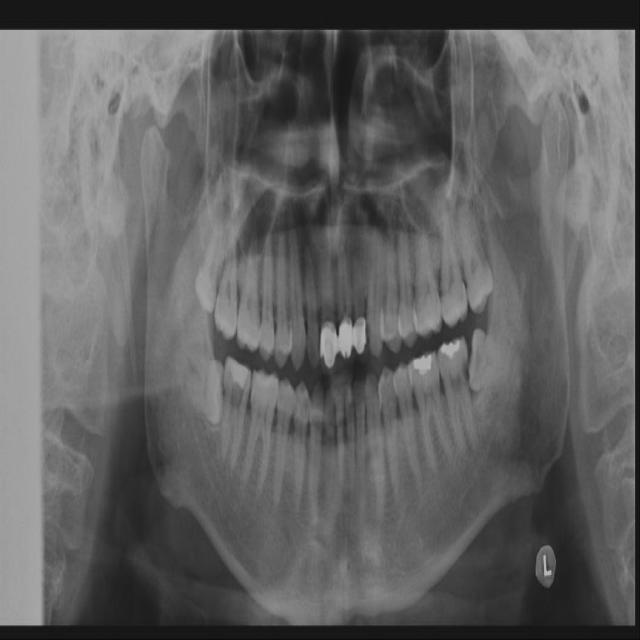Caries: (464, 362, 469, 381)
Filling: (320, 315, 367, 368), (231, 357, 253, 385), (413, 354, 434, 371), (442, 341, 461, 358)
impacted tooth: (458, 198, 493, 307), (467, 331, 520, 392), (181, 351, 221, 424), (195, 218, 222, 307)
